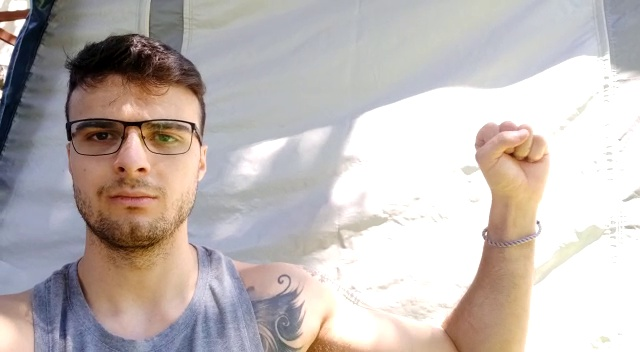Fist: (468, 115, 560, 200)
